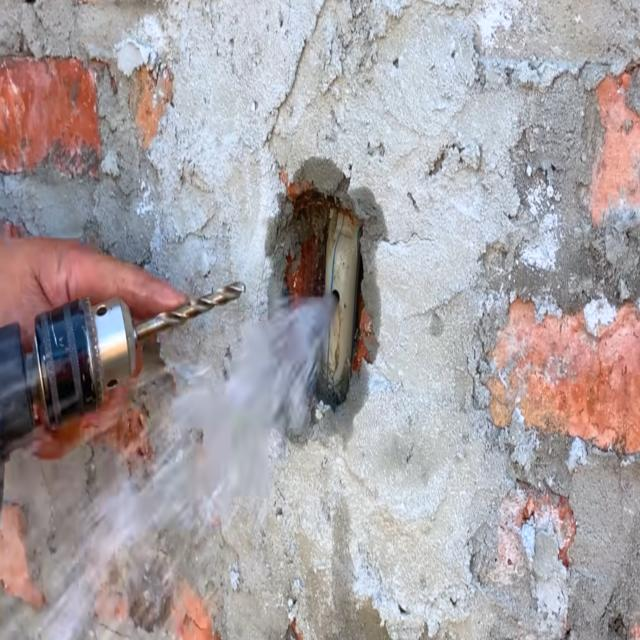leak: (0, 290, 341, 640)
